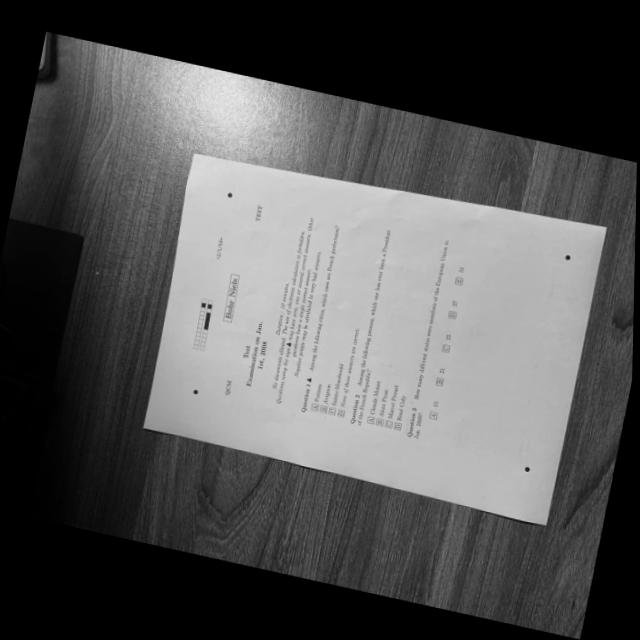Markers: (564, 252, 571, 260), (523, 465, 530, 472), (226, 191, 232, 198), (192, 388, 198, 393)
